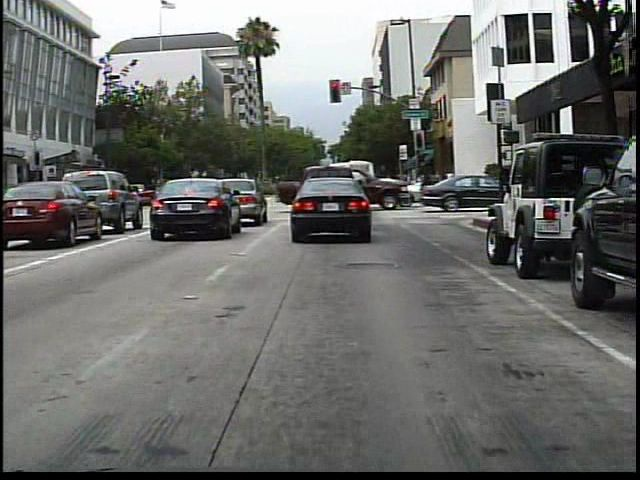person: (427, 166, 442, 198), (442, 167, 459, 195)
